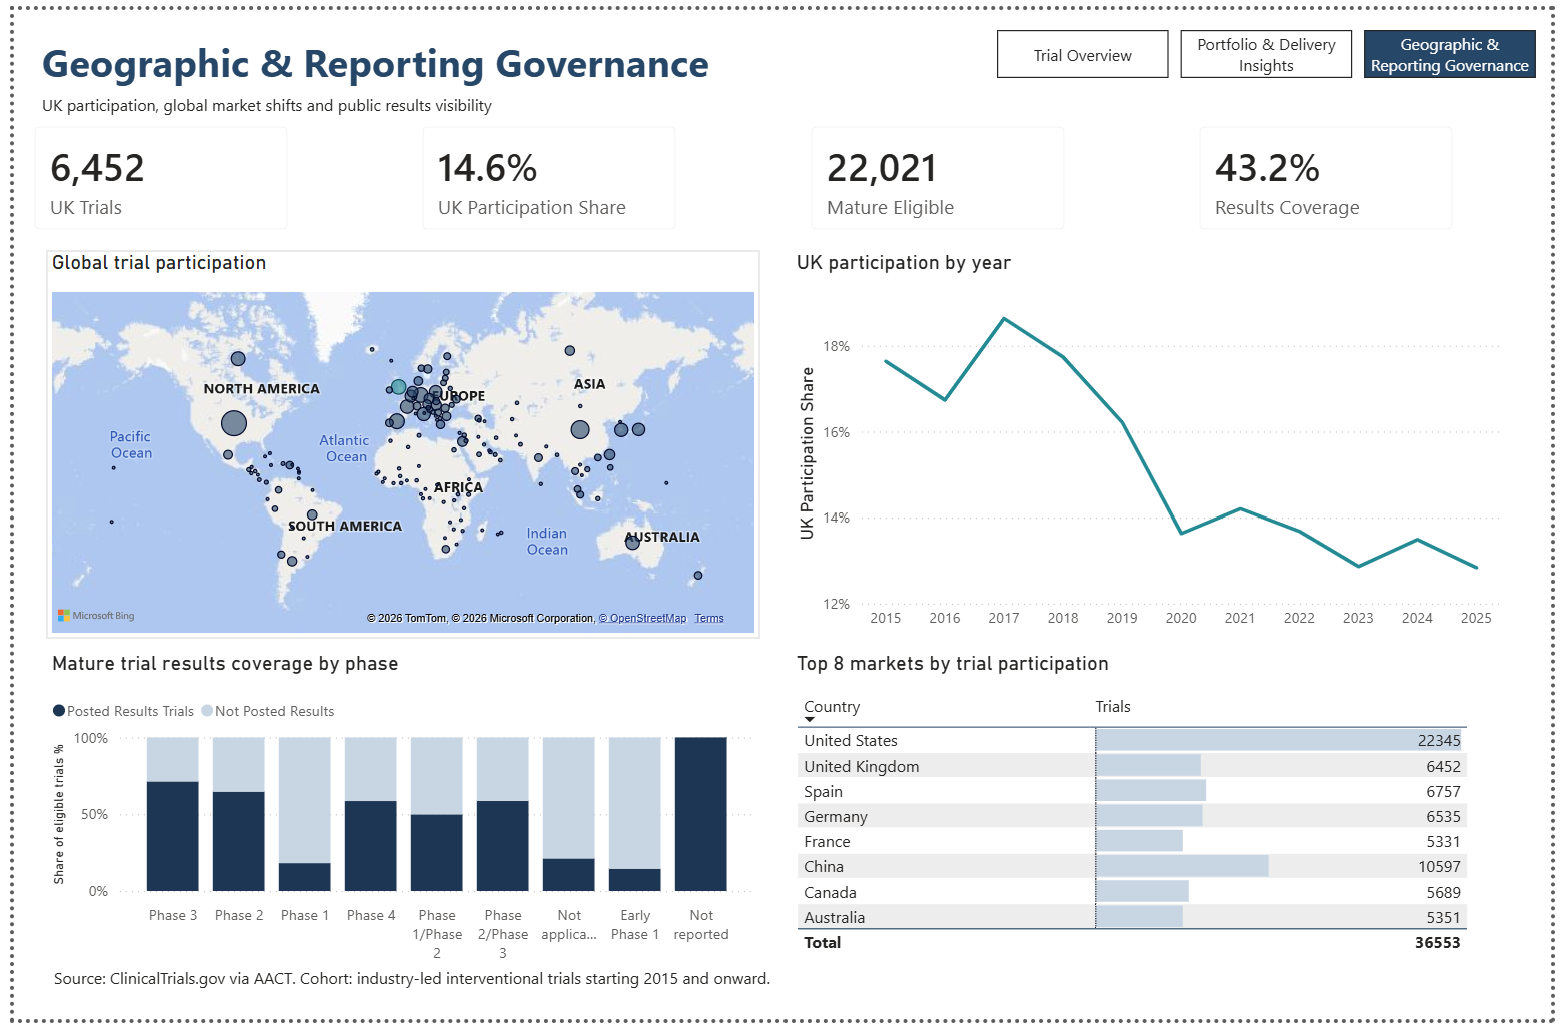

The page's visual inventory and layout, read from the dashboard file:
{"tool":"powerbi","page":{"name":"Geographic & Reporting Governance","canvas":[1280,840],"ordinal":2},"visuals":[{"type":"cardVisual","fields":{"Data":["FactTrials.UK Participation Share"]},"box":[323.3,80,245,120],"z":0,"group":"g1"},{"type":"cardVisual","fields":{"Data":["FactTrials.UK Trials Display"]},"box":[0,80,245,120],"z":1000,"group":"g1"},{"type":"cardVisual","fields":{"Data":["FactTrials.Mature Eligible Display"]},"box":[646.7,80,245,120],"z":2000,"group":"g1"},{"type":"cardVisual","fields":{"Data":["FactTrials.Results Coverage"]},"box":[970,80,245,120],"z":3000,"group":"g1"},{"type":"map","title":"Global trial participation","fields":{"Category":["BridgeTrialCountry.country_name"],"Size":["BridgeTrialCountry.Trials by Country"],"Series":["BridgeTrialCountry.is_uk"]},"box":[26,200,595,323.3],"z":4000,"group":"g1"},{"type":"group","id":"g1","title":"Group 1","box":[0,80,1242,720],"z":4004},{"type":"textbox","box":[18.3,16.7,591.7,63.3],"z":4005},{"type":"textbox","box":[18.3,65,395,31.7],"z":4006},{"type":"textbox","box":[18,792,780,48],"z":4007},{"type":"textbox","box":[28,792,780,48],"z":4008},{"type":"pageNavigator","box":[818.3,16.7,450,40],"z":4009},{"type":"lineChart","title":"UK participation by year","fields":{"Category":["FactTrials.start_year"],"Y":["FactTrials.UK Participation Share"]},"box":[646,200,596,324],"z":5000,"group":"g1"},{"type":"hundredPercentStackedColumnChart","title":"Mature trial results coverage by phase","fields":{"Category":["FactTrials.Phase Label"],"Y":["FactTrials.Posted Results Trials","FactTrials.Not Posted Results"]},"box":[26,533,595,267],"z":6000,"group":"g1"},{"type":"tableEx","title":"Top 8 markets by trial participation","fields":{"Values":["BridgeTrialCountry.country_name","BridgeTrialCountry.Trials by Country"]},"box":[646,533,596,267],"z":7000,"group":"g1"}]}

Visuals, with their boxes in screenshot pixels (x1, y1, x2, y2), scaled from the page's 1280x840 canvas onto the 1562x1030 screenshot:
cardVisual - FactTrials.UK Participation Share: {"x1": 395, "y1": 98, "x2": 694, "y2": 245}
cardVisual - FactTrials.UK Trials Display: {"x1": 0, "y1": 98, "x2": 299, "y2": 245}
cardVisual - FactTrials.Mature Eligible Display: {"x1": 789, "y1": 98, "x2": 1088, "y2": 245}
cardVisual - FactTrials.Results Coverage: {"x1": 1184, "y1": 98, "x2": 1483, "y2": 245}
"Global trial participation" map: {"x1": 32, "y1": 245, "x2": 758, "y2": 642}
"Group 1" group: {"x1": 0, "y1": 98, "x2": 1516, "y2": 981}
textbox: {"x1": 22, "y1": 20, "x2": 744, "y2": 98}
textbox: {"x1": 22, "y1": 80, "x2": 504, "y2": 119}
textbox: {"x1": 22, "y1": 971, "x2": 974, "y2": 1029}
textbox: {"x1": 34, "y1": 971, "x2": 986, "y2": 1029}
pageNavigator: {"x1": 999, "y1": 20, "x2": 1548, "y2": 70}
"UK participation by year" lineChart: {"x1": 788, "y1": 245, "x2": 1516, "y2": 643}
"Mature trial results coverage by phase" hundredPercentStackedColumnChart: {"x1": 32, "y1": 654, "x2": 758, "y2": 981}
"Top 8 markets by trial participation" tableEx: {"x1": 788, "y1": 654, "x2": 1516, "y2": 981}
